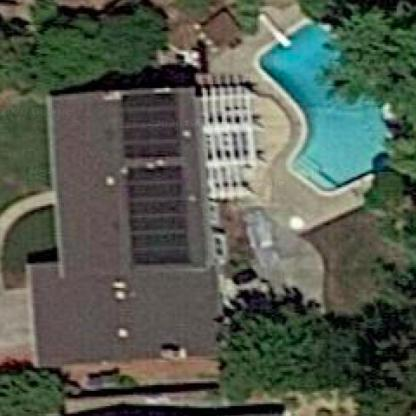solar_panel: (119, 160, 204, 271), (114, 90, 184, 164)
swimming_pool: (253, 4, 405, 200)
